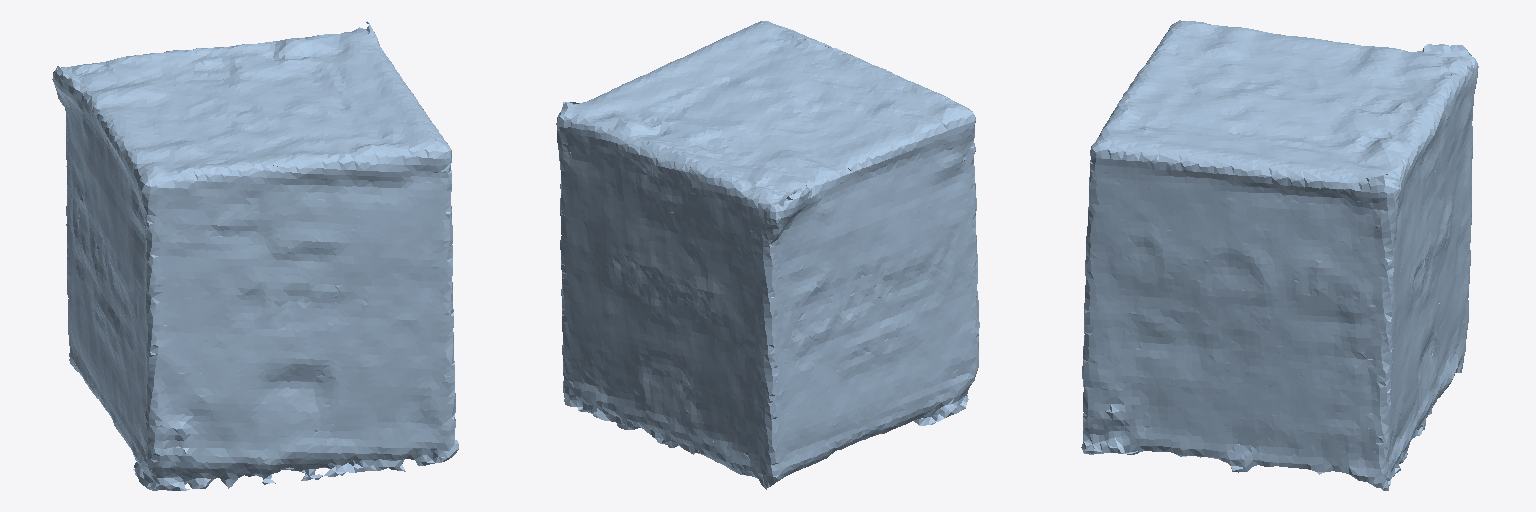
The robot description file, URDF, robot "largebox.urdf":
<?xml version="1.0" ?>
<robot name="largebox.urdf">
  <dynamics damping="0.5" friction="0.9"/>
  <link name="baseLink">
    <contact>
      <lateral_friction value="0.9"/>
      <rolling_friction value="0.5"/>
      <stiffness value="30000"/>
      <damping value="1000"/>
    </contact>
    <visual>
      <origin rpy="0 0 0" xyz="0 0 0"/>
      <geometry>
        <mesh filename="meshes/largebox/largebox.stl" scale="1.0 1.0 1.0"/>
      </geometry>
       <material name="mat">
        <color rgba="0.7 0.8 0.9 1"/>
      </material>
    </visual>
    <collision>
      <origin rpy="0 0 0" xyz="0 0 0"/>
      <geometry>
	 	<mesh filename="meshes/largebox/largebox.stl" scale="1.0 1.0 1.0"/>
      </geometry>
    </collision>
  </link>
</robot>

--- What the picture shows (computed from the rendered views, not written in the file) ---
Views: 3 orthographic renders of the robot side by side, from view 1: azimuth 30°, elevation 25°; view 2: azimuth 150°, elevation 25°; view 3: azimuth 270°, elevation 25°.
Model largebox.urdf with 1 links and 0 joints (none), rooted at baseLink, posed every joint at zero.
Visible links, largest first — view 1: baseLink; view 2: baseLink; view 3: baseLink.
Link boxes in pixels (<box>): baseLink: <box>52,21,458,490</box>; baseLink: <box>556,21,979,489</box>; baseLink: <box>1081,20,1478,490</box>.
Bounding box of the posed robot: 0.3899 × 0.3989 × 0.3602 m (x, y, z).
1 mesh visuals loaded from 1 distinct referenced files (1 binary STL).
